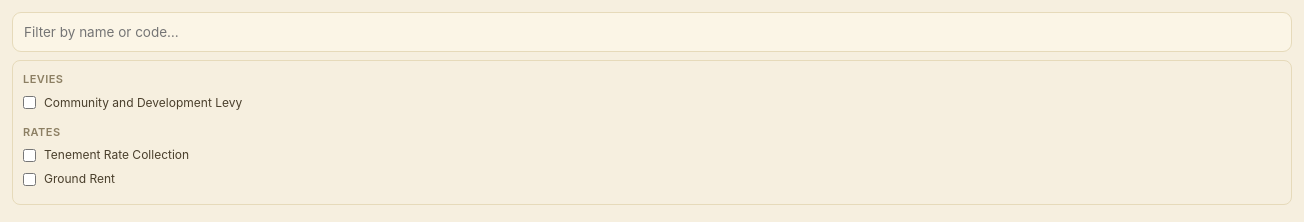
GroupedChecklist › filters items by searchText across all groups
This screenshot has width=1304, height=222.
Type "ground" into the field with placeholder "Filter by name or code…" at coordinates (652, 32), box [12,12,1292,52]
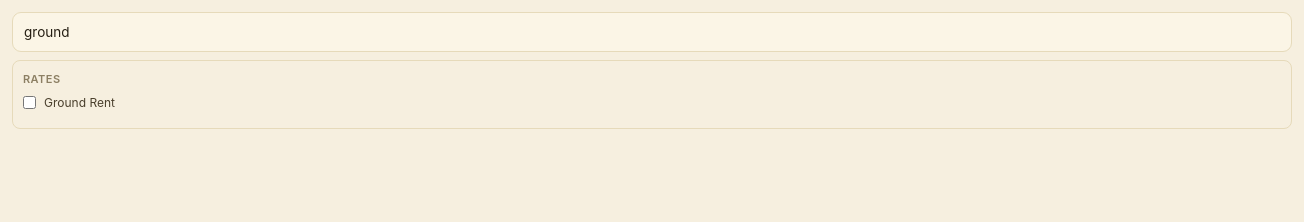
Expected: the text "Ground Rent" is shown, [23,95,115,110]
Expected: the text "Tenement Rate Collection" is gone
Expected: the text "Community and Development Levy" is gone
